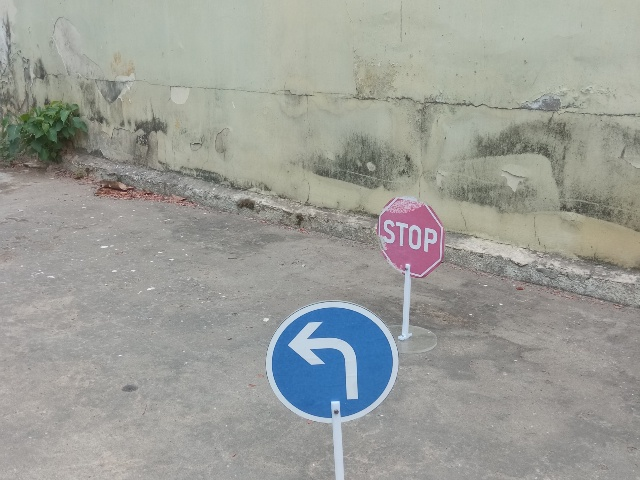Left_Sign: (266, 300, 399, 424)
Stop_Sign: (377, 195, 445, 278)
